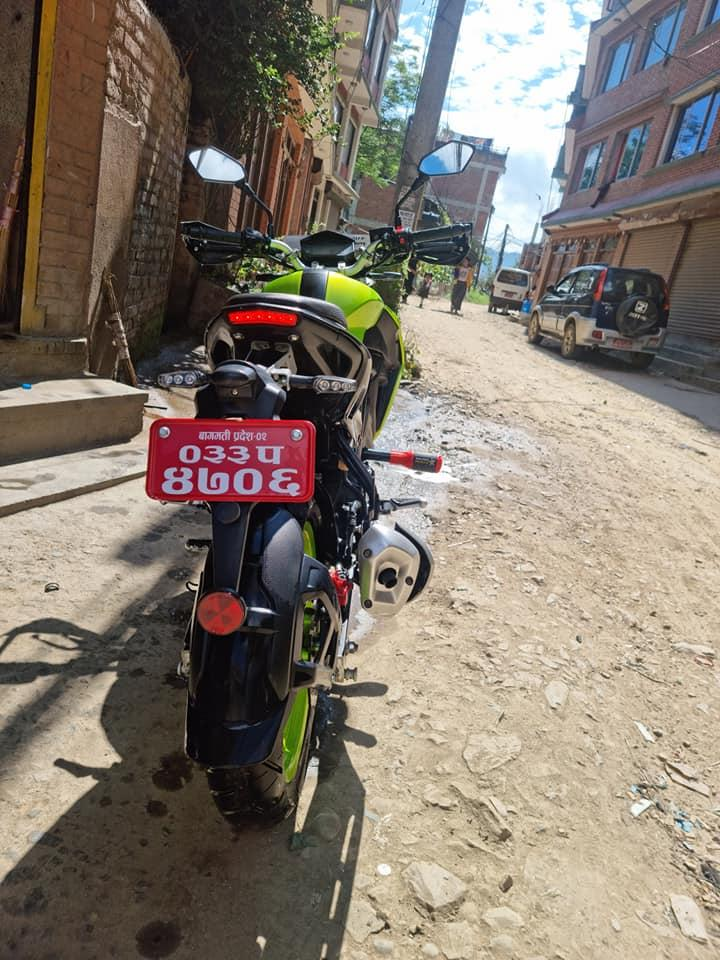bike: (151, 114, 490, 839)
